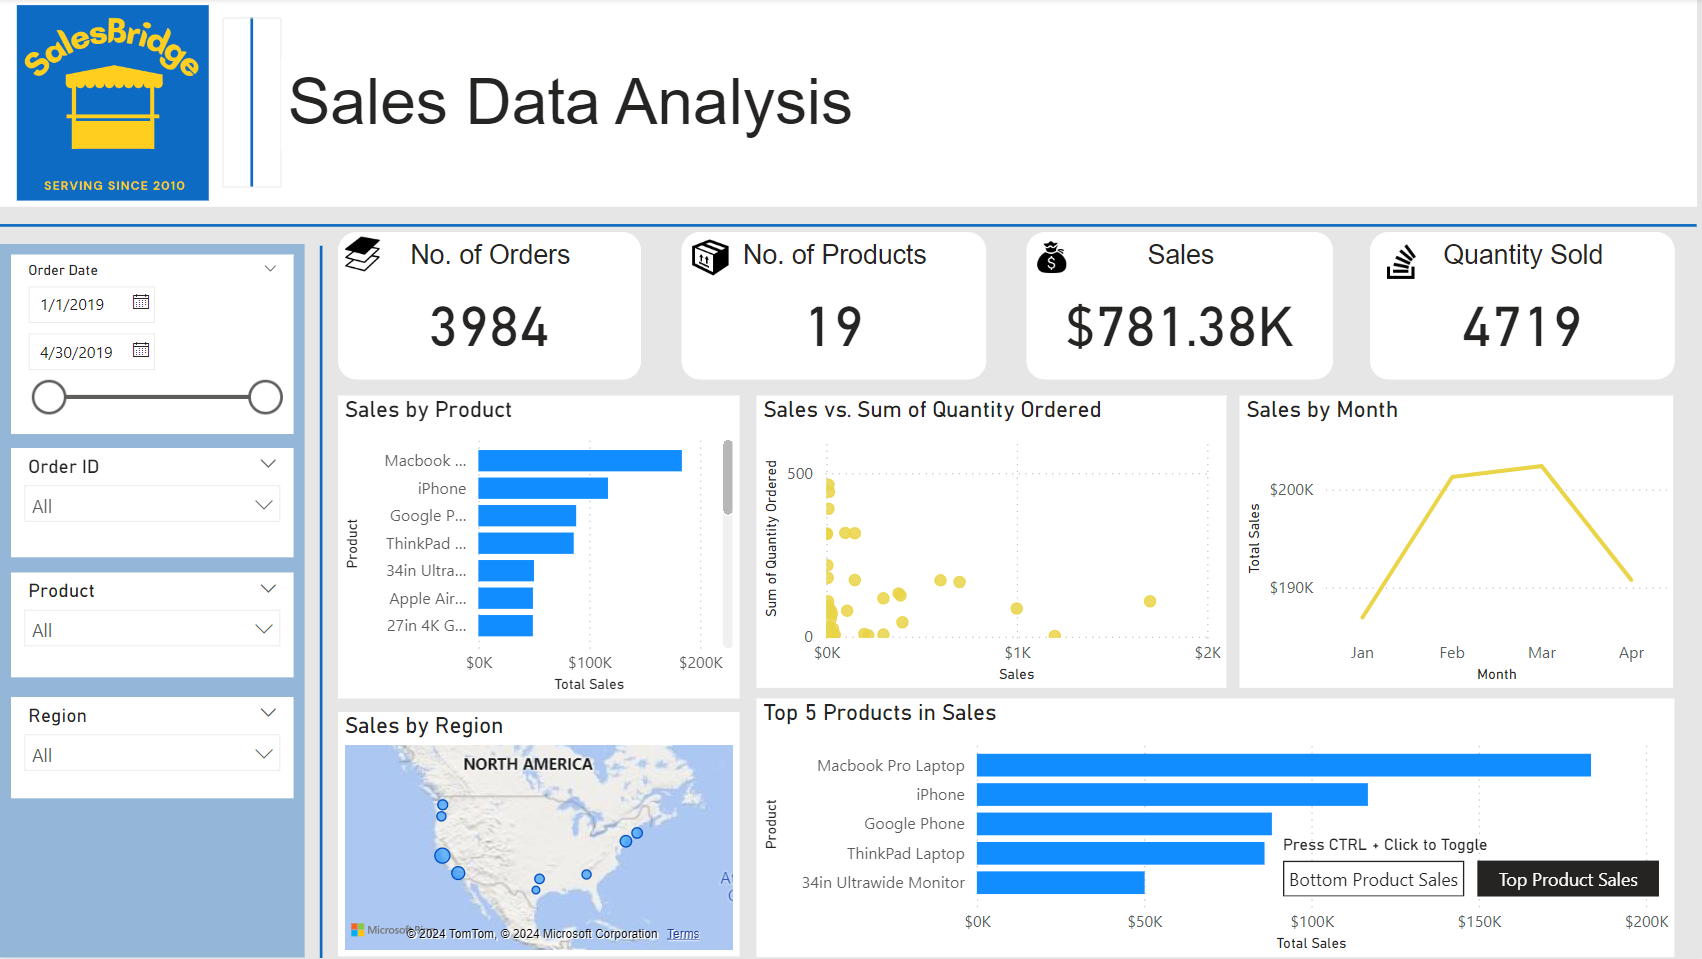

The page's visual inventory and layout, read from the dashboard file:
{"tool":"powerbi","page":{"name":"Sales Data Analysis for SalesBridge","canvas":[1280,720],"ordinal":0},"visuals":[{"type":"shape","box":[0,156.9,1273.7,28.3],"z":0},{"type":"textbox","box":[0,0,1273.7,156.9],"z":1000},{"type":"shape","box":[109,12.1,53,72.7],"z":2000},{"type":"image","box":[3.8,0,164.4,156.9],"z":3000},{"type":"shape","box":[228.7,185.2,26.5,534.8],"z":4000},{"type":"card","title":"No. of Orders","fields":{"Values":["Count(Data.Order ID)"]},"box":[254.4,175.6,227.1,110.5],"z":5000},{"type":"shape","box":[168.1,15.1,43.9,127.2],"z":6000},{"type":"textbox","box":[212,45.4,578.4,68.1],"z":7000},{"type":"card","title":"No. of Products","fields":{"Values":["Count(Data.Product)"]},"box":[511.8,175.6,228.6,110.5],"z":8000},{"type":"card","title":"Sales","fields":{"Values":["Sum(Data.Sales)"]},"box":[770.7,175.6,230.2,110.5],"z":9000},{"type":"card","title":"Quantity Sold","fields":{"Values":["Sum(Data.Quantity Ordered)"]},"box":[1028.1,175.6,228.6,110.5],"z":10000},{"type":"image","box":[511.8,175.6,43.9,37.9],"z":11000},{"type":"image","box":[1028.1,175.6,46.9,46.9],"z":12000},{"type":"image","box":[770.7,177.2,37.9,36.3],"z":13000},{"type":"image","box":[254.4,171.1,36.3,42.4],"z":14000},{"type":"textbox","box":[0,185,229,535],"z":15000},{"type":"slicer","fields":{"Values":["Data.Order Date"]},"box":[9.1,192.3,212,134.8],"z":16000},{"type":"slicer","fields":{"Values":["Data.Product"]},"box":[9.1,431.5,212,78.7],"z":17000},{"type":"slicer","fields":{"Values":["Data.Order ID"]},"box":[9.1,337.7,212,81.8],"z":18000},{"type":"slicer","fields":{"Values":["Data.Region"]},"box":[9.1,523.9,212,75.7],"z":19000},{"type":"map","title":"Sales by Region","fields":{"Category":["Data.Region"],"Size":["Sum(Data.Sales)"]},"box":[254.4,536,301.3,183.2],"z":20000},{"type":"scatterChart","title":"Sales vs. Sum of Quantity Ordered","fields":{"X":["Data.Sales"],"Y":["Sum(Data.Quantity Ordered)"]},"box":[567.8,298.3,352.8,219.6],"z":21000},{"type":"lineChart","title":"Sales by Month","fields":{"Y":["Sum(Data.Sales)"],"Category":["Data.Month Name"]},"box":[931.2,298.3,325.6,219.6],"z":22000},{"type":"clusteredBarChart","title":"Sales by Product","fields":{"Y":["Sum(Data.Sales)"],"Category":["Data.Product"]},"box":[254.4,298.3,301.3,227.1],"z":23000},{"type":"clusteredBarChart","title":"Top 5 Products in Sales","fields":{"Y":["Sum(Data.Sales)"],"Category":["Data.Product"]},"box":[567.8,525.4,689,193.8],"z":24000},{"type":"bookmarkNavigator","title":"Press CTRL + Click to Toggle","box":[963,628.4,283.2,46.9],"z":26000}]}

Visuals, with their boxes in screenshot pixels (x1, y1, x2, y2), scaled from the page's 1280x720 canvas onto the 1702x959 screenshot:
shape: [0,209,1694,247]
textbox: [0,0,1694,209]
shape: [145,16,215,113]
image: [5,0,224,209]
shape: [304,247,339,958]
"No. of Orders" card: [338,234,640,381]
shape: [224,20,282,190]
textbox: [282,60,1051,151]
"No. of Products" card: [681,234,985,381]
"Sales" card: [1025,234,1331,381]
"Quantity Sold" card: [1367,234,1671,381]
image: [681,234,739,284]
image: [1367,234,1429,296]
image: [1025,236,1075,284]
image: [338,228,387,284]
textbox: [0,246,304,958]
slicer - Data.Order Date: [12,256,294,436]
slicer - Data.Product: [12,575,294,680]
slicer - Data.Order ID: [12,450,294,559]
slicer - Data.Region: [12,698,294,799]
"Sales by Region" map: [338,714,739,958]
"Sales vs. Sum of Quantity Ordered" scatterChart: [755,397,1224,690]
"Sales by Month" lineChart: [1238,397,1671,690]
"Sales by Product" clusteredBarChart: [338,397,739,700]
"Top 5 Products in Sales" clusteredBarChart: [755,700,1671,958]
"Press CTRL + Click to Toggle" bookmarkNavigator: [1280,837,1657,899]
